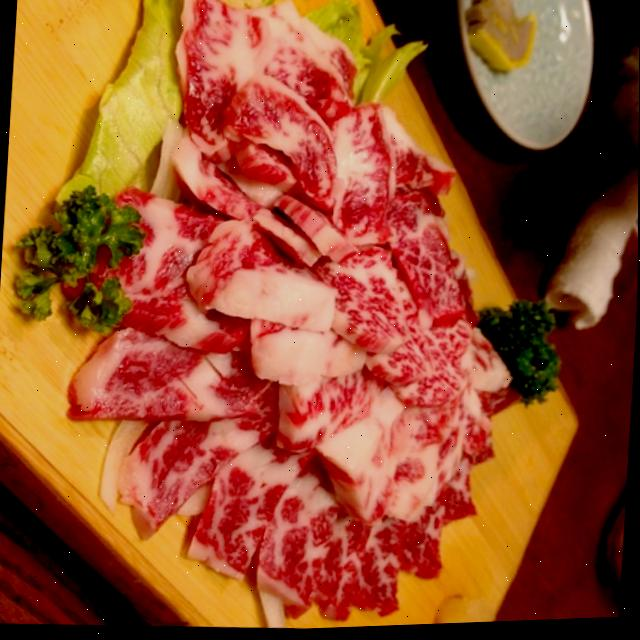刺身生食: (0, 0, 632, 640)
